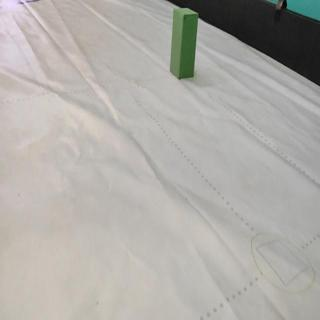greenbox: (169, 7, 199, 80)
